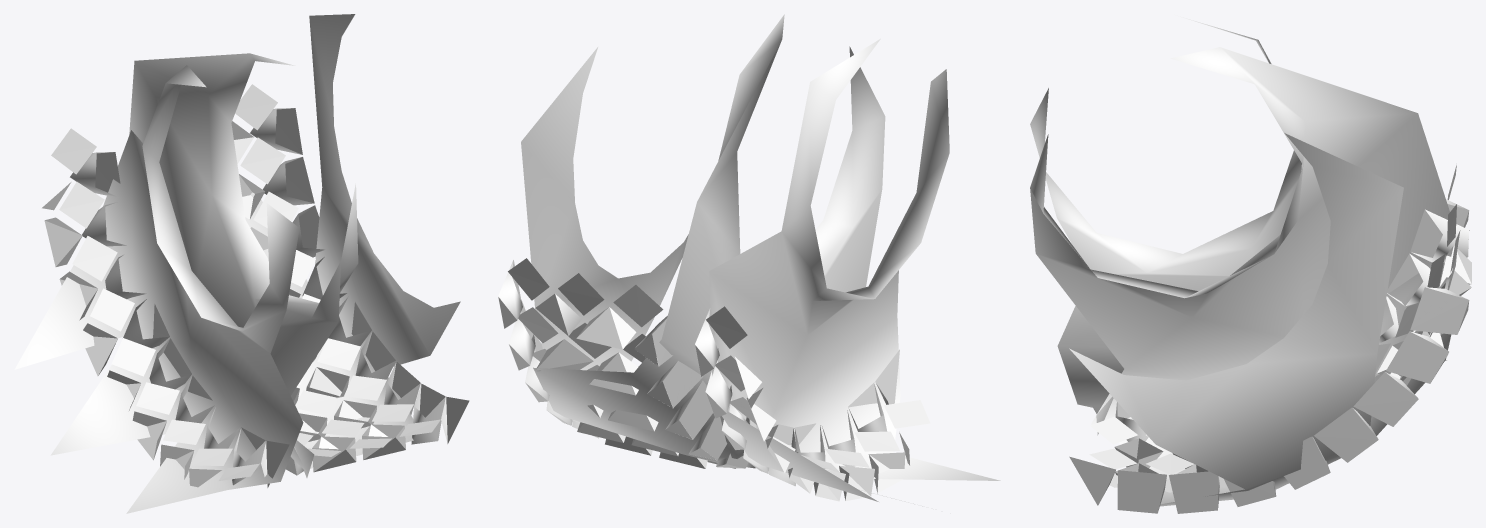
3 views of the same model, side by side, from view 1: azimuth 30°, elevation 25°; view 2: azimuth 150°, elevation 25°; view 3: azimuth 270°, elevation 25° (orthographic). The views are drawn at different scales.
Size of the model in its own units: 0.854 by 0.992 by 0.9774.
1 material, 1 textured.
